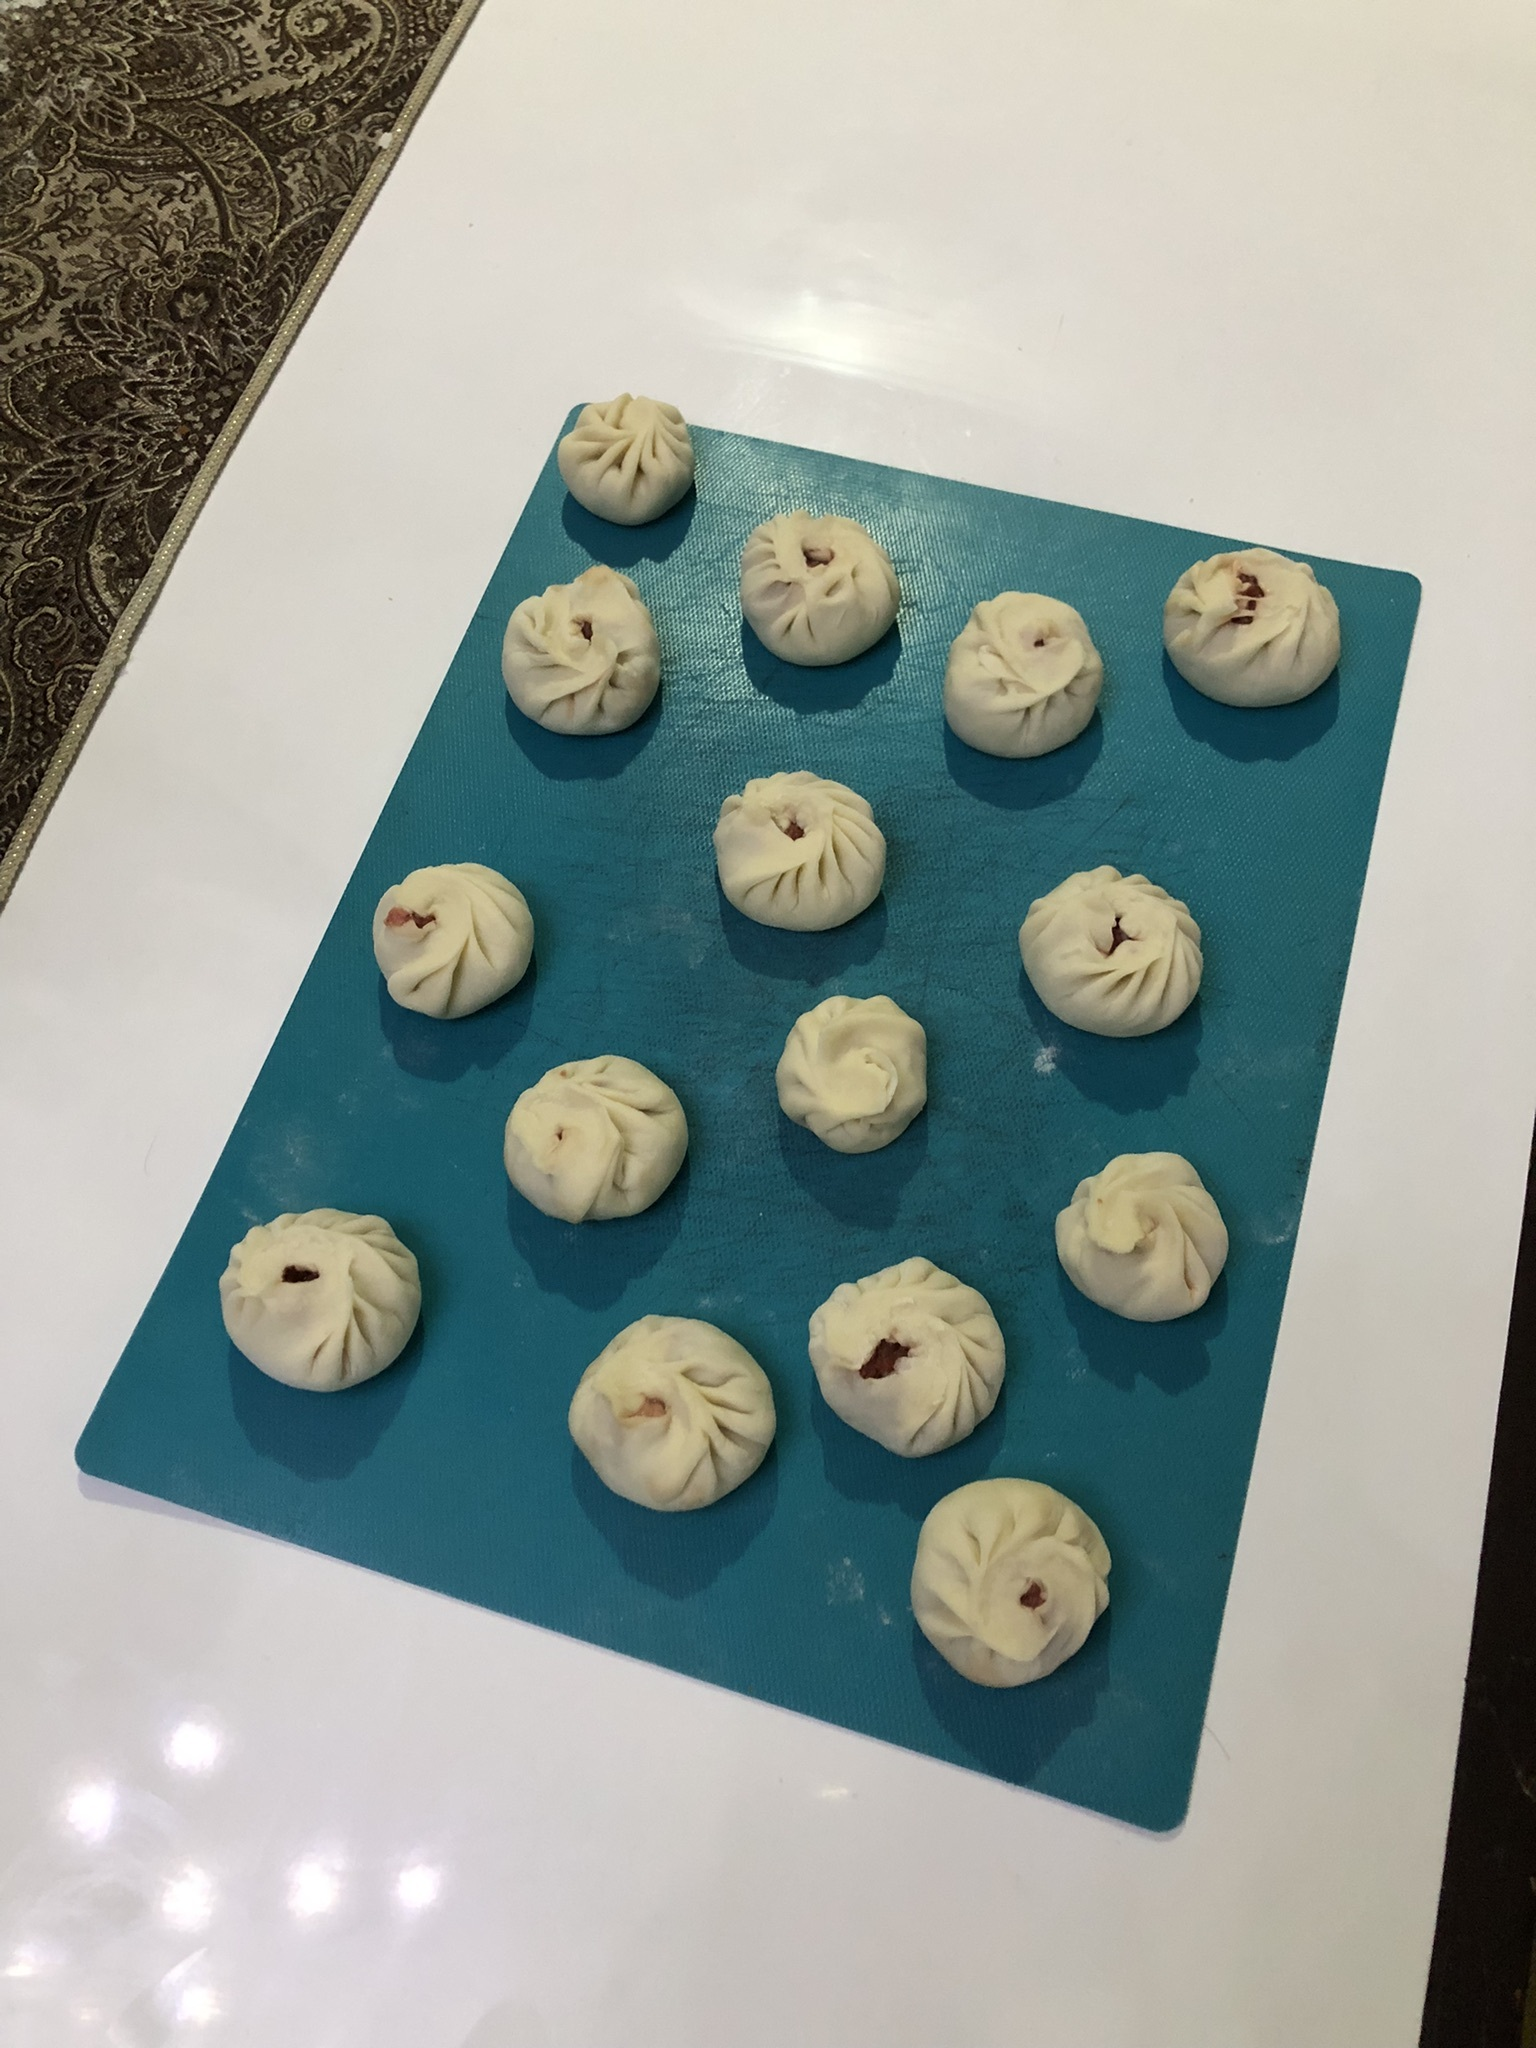buuz: (904, 1474, 1121, 1696), (563, 1305, 783, 1521), (795, 1250, 1016, 1464), (213, 1201, 436, 1401), (497, 1047, 697, 1232), (1049, 1143, 1239, 1335), (1012, 863, 1217, 1040), (1155, 543, 1347, 719), (495, 560, 673, 743), (707, 764, 892, 939), (937, 587, 1113, 768), (770, 985, 937, 1163), (369, 860, 542, 1026), (737, 506, 905, 671), (553, 390, 702, 537)
